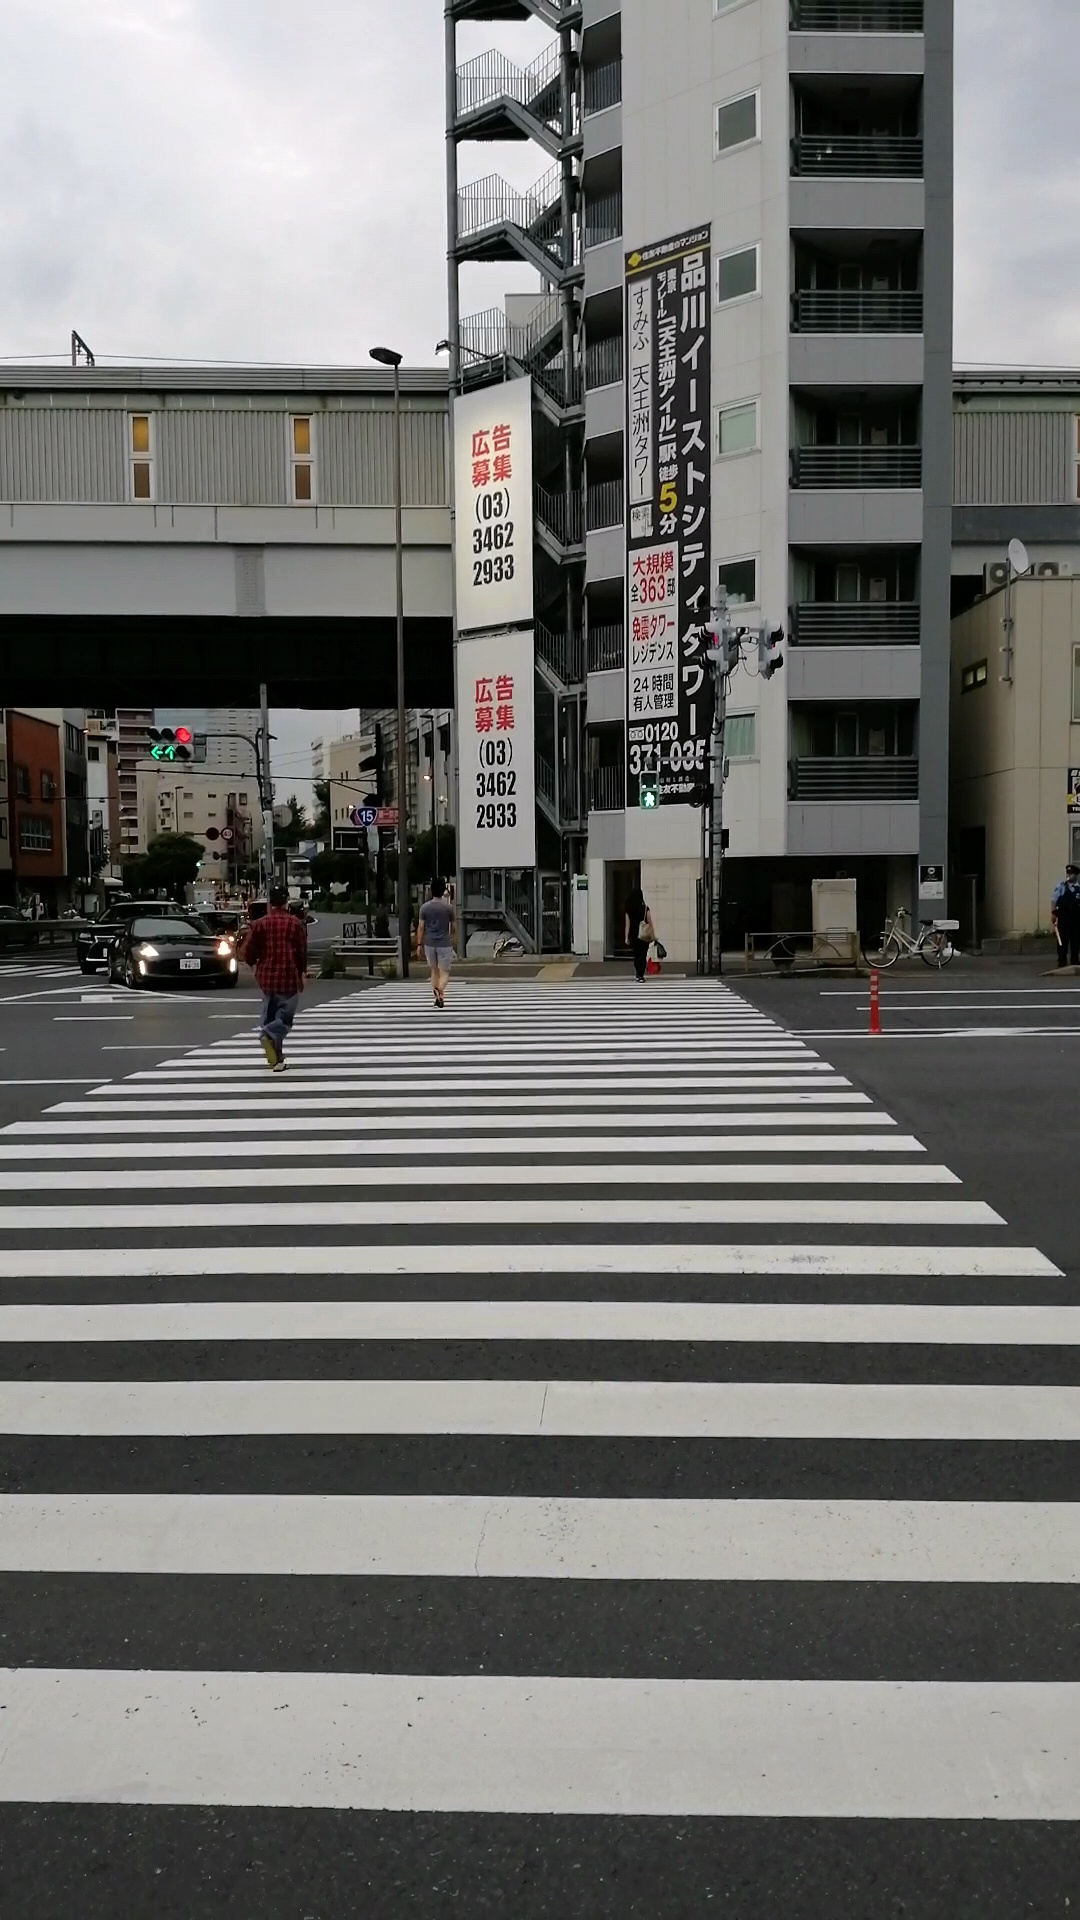green: (636, 771, 659, 810)
